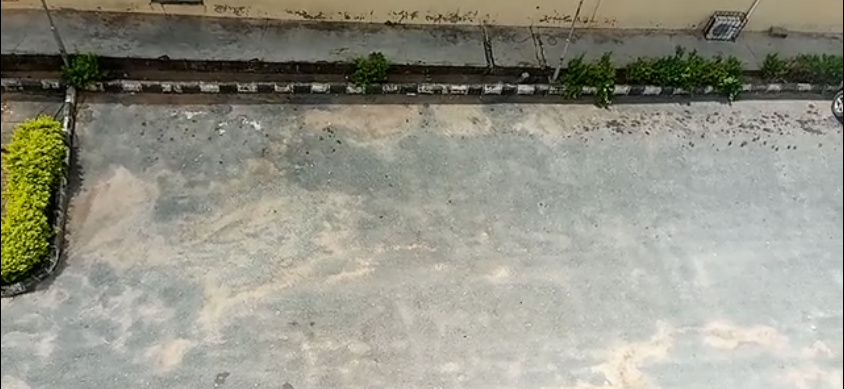four: (623, 63, 750, 283)
one: (43, 54, 195, 283)
three: (443, 68, 562, 284)
two: (259, 62, 390, 287)
